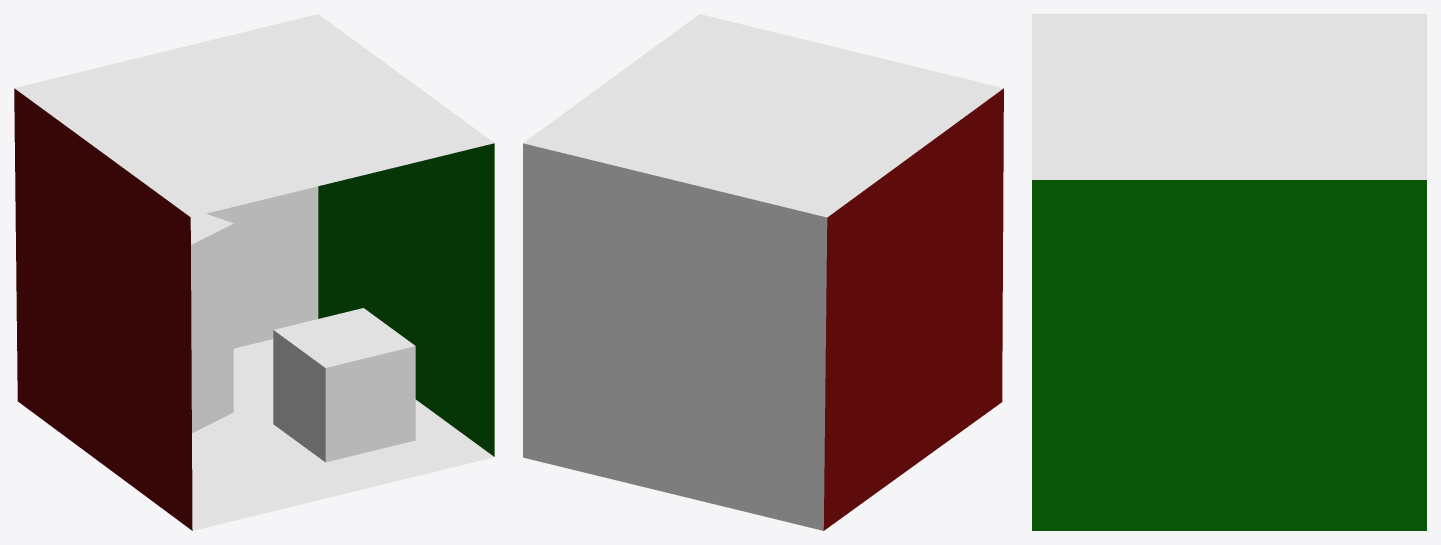
Rendered from Cornell.FBX.
3 renders of one model, left to right at view 1: azimuth 30°, elevation 25°; view 2: azimuth 150°, elevation 25°; view 3: azimuth 270°, elevation 25°, orthographic. The views are drawn at different scales.
Parts seen in each view (by area): view 1: object2, object4, object3, object5, object6; view 2: object2, object4; view 3: object3, object2.
Boxes of the visible parts, x1,y1,x2,y2 form: object2: (14, 14, 494, 530); object4: (14, 88, 192, 530); object3: (318, 143, 494, 456); object5: (273, 308, 415, 462); object6: (190, 213, 233, 432); object2: (523, 14, 1003, 530); object4: (823, 88, 1003, 530); object3: (1032, 180, 1426, 530); object2: (1032, 14, 1426, 179).
Bounding box in the file's own units: 5.56 × 5.49 × 5.59.
